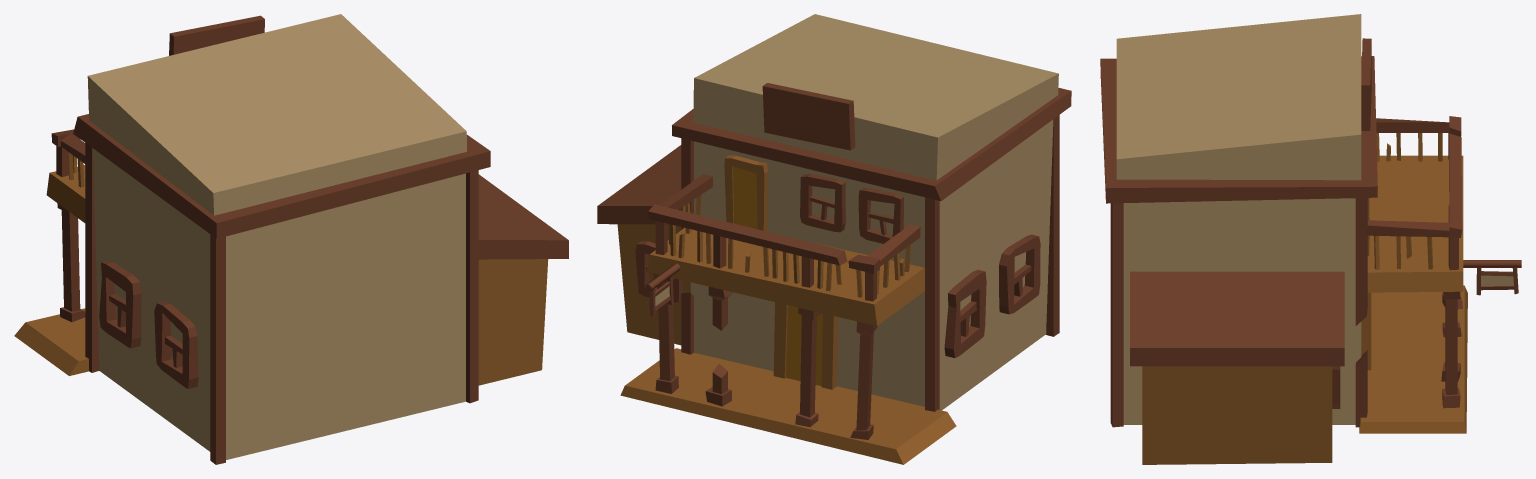
Rendered from BancoEdificio.fbx.
3 views of the same model, side by side, from view 1: azimuth 30°, elevation 25°; view 2: azimuth 150°, elevation 25°; view 3: azimuth 270°, elevation 25° (orthographic). The views are drawn at different scales.
Visible parts, largest first — view 1: BancoEdificio; view 2: BancoEdificio; view 3: BancoEdificio.
Boxes of the visible parts, x1,y1,x2,y2 form: BancoEdificio: (14, 14, 568, 464); BancoEdificio: (597, 14, 1071, 464); BancoEdificio: (1100, 14, 1521, 464).
Bounding box in the file's own units: 1028 × 808 × 1009.
